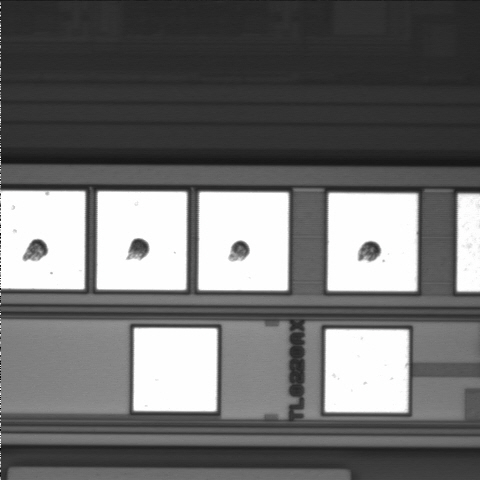pad: (198, 192, 289, 291), (97, 191, 187, 290), (328, 193, 418, 291), (133, 328, 217, 411), (325, 329, 409, 412)
